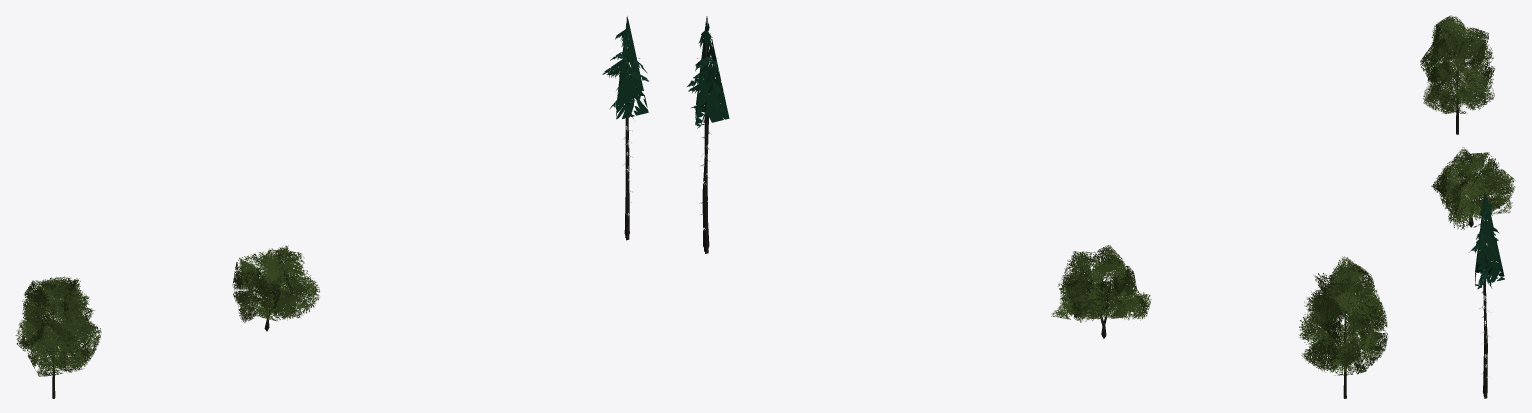
The model's file is tex.glb.
3 views of the same model, side by side, from view 1: azimuth 30°, elevation 25°; view 2: azimuth 150°, elevation 25°; view 3: azimuth 270°, elevation 25° (orthographic). The views are drawn at different scales.
Visible parts, largest first — view 1: Object_250, Object_184, Conifer_LOD0_8; view 2: Object_250, Object_184, Conifer_LOD0_8; view 3: Object_250, Object_184, Conifer_LOD0_8.
Boxes of the visible parts, x1=… form: Object_250: x1=15, y1=276, x2=101, y2=398; Object_184: x1=232, y1=245, x2=319, y2=331; Conifer_LOD0_8: x1=602, y1=16, x2=648, y2=240; Object_250: x1=1298, y1=256, x2=1387, y2=398; Object_184: x1=1051, y1=245, x2=1151, y2=338; Conifer_LOD0_8: x1=687, y1=16, x2=729, y2=253; Object_250: x1=1420, y1=15, x2=1494, y2=134; Object_184: x1=1431, y1=147, x2=1515, y2=229; Conifer_LOD0_8: x1=1469, y1=192, x2=1504, y2=398.
Bounding box in the file's own units: 97.61 × 33.43 × 14.09.
4 materials, 3 textured.
